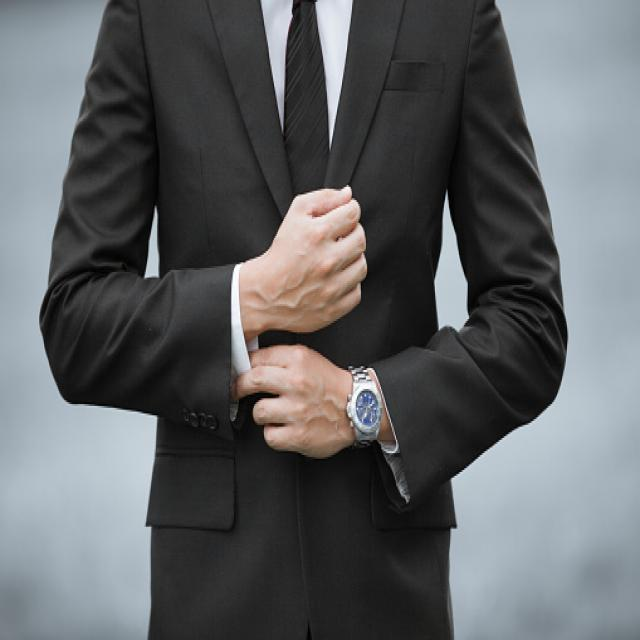Watch: (346, 366, 386, 454)
